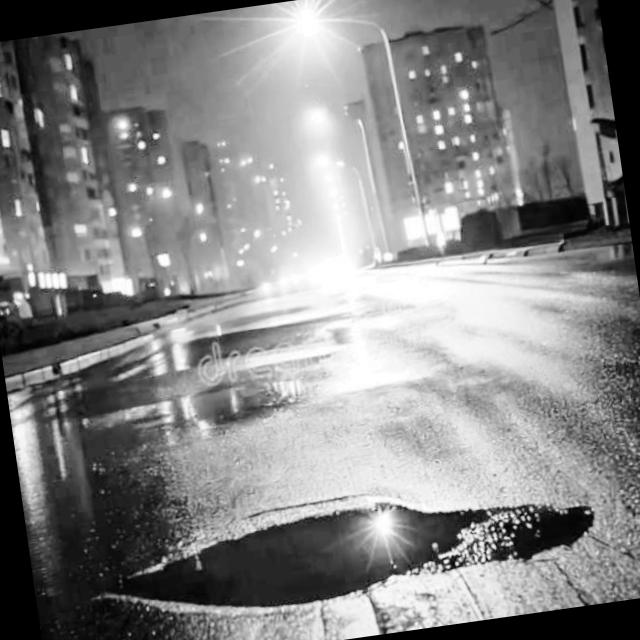Pothole: (99, 435, 616, 640), (170, 354, 308, 447)
